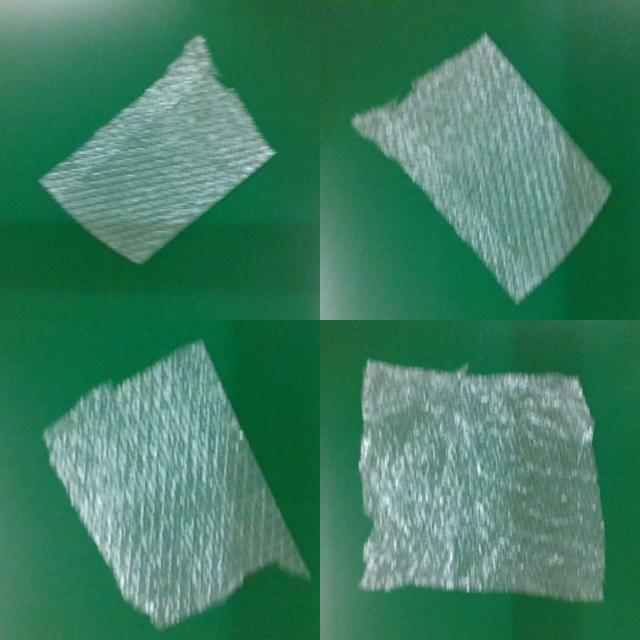Single-layer Plastic: (44, 341, 309, 629), (352, 34, 610, 304), (359, 360, 605, 601), (40, 36, 275, 264)
